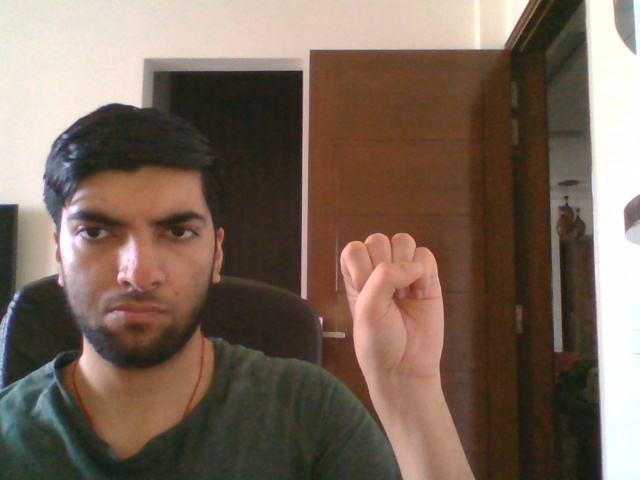LetterE: (339, 232, 446, 382)
